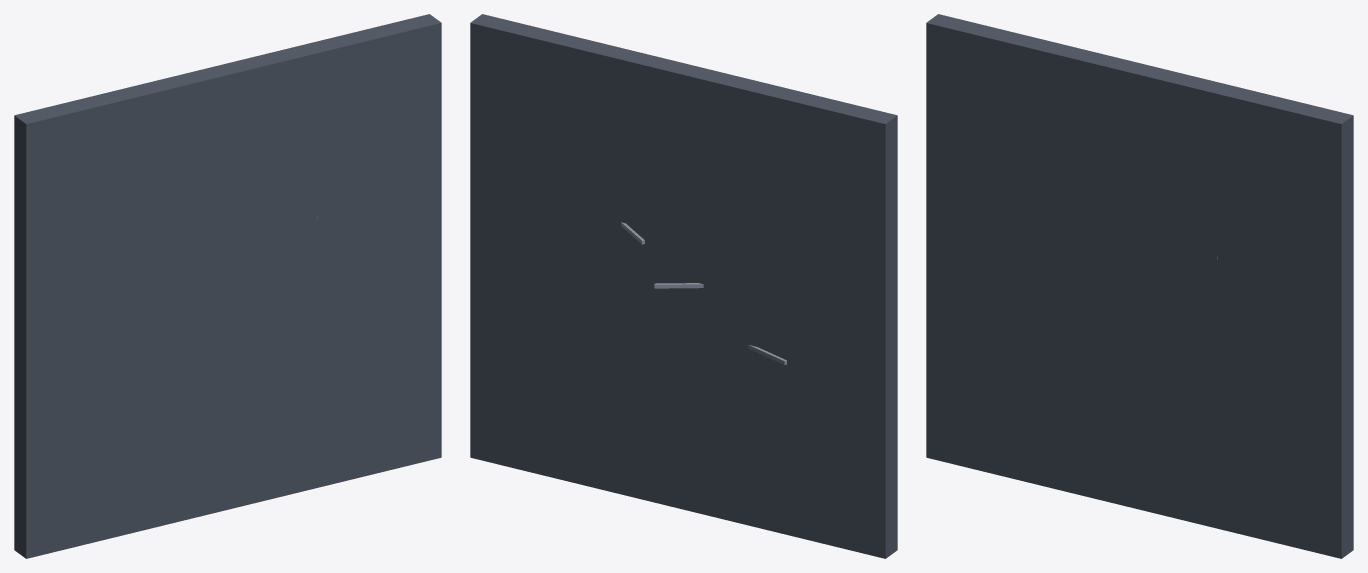
File: corridor_floor_cracked_3p946.glb
The picture shows the model from 3 angles, left to right: view 1: azimuth 30°, elevation 25°; view 2: azimuth 150°, elevation 25°; view 3: azimuth 330°, elevation 25°; orthographic projection.
Visible parts, largest first — view 1: Floor.005; view 2: Floor.005; view 3: Floor.005.
Part boxes in pixels (x1,y1,x2,y2): Floor.005: (14, 14, 441, 558); Floor.005: (470, 14, 897, 558); Floor.005: (926, 14, 1353, 558).
Bounding box in the file's own units: 3.95 × 3.95 × 0.4272.
